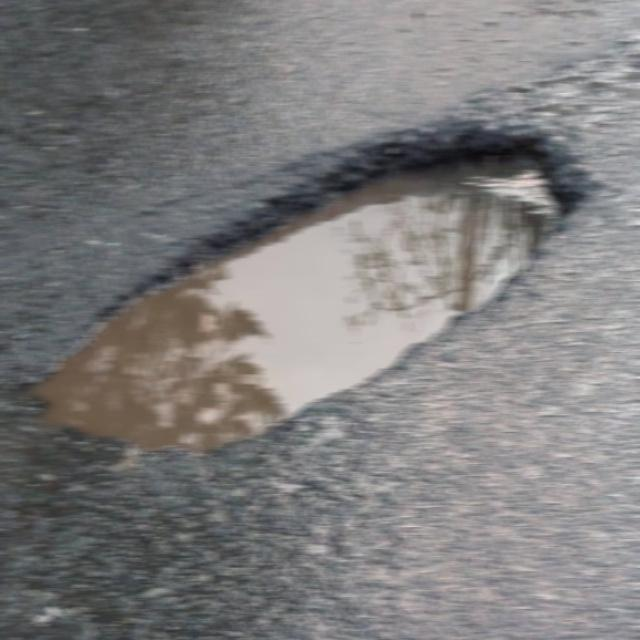Pothole: (9, 97, 578, 461)
